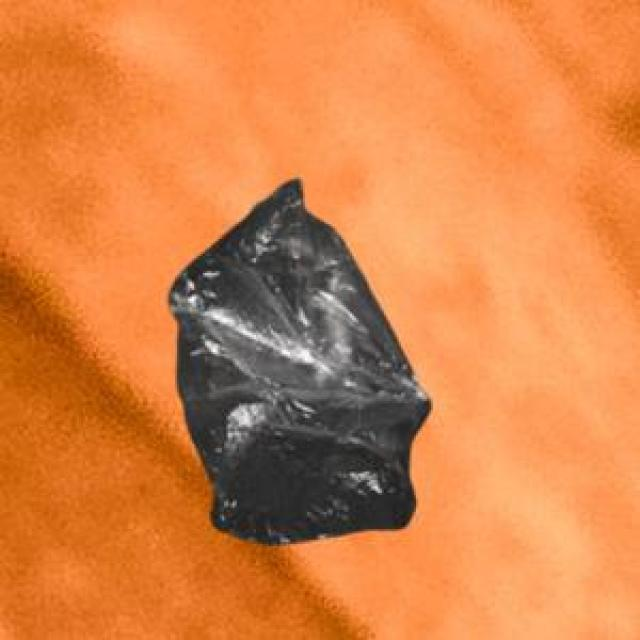plasticcover: (152, 188, 452, 551)
